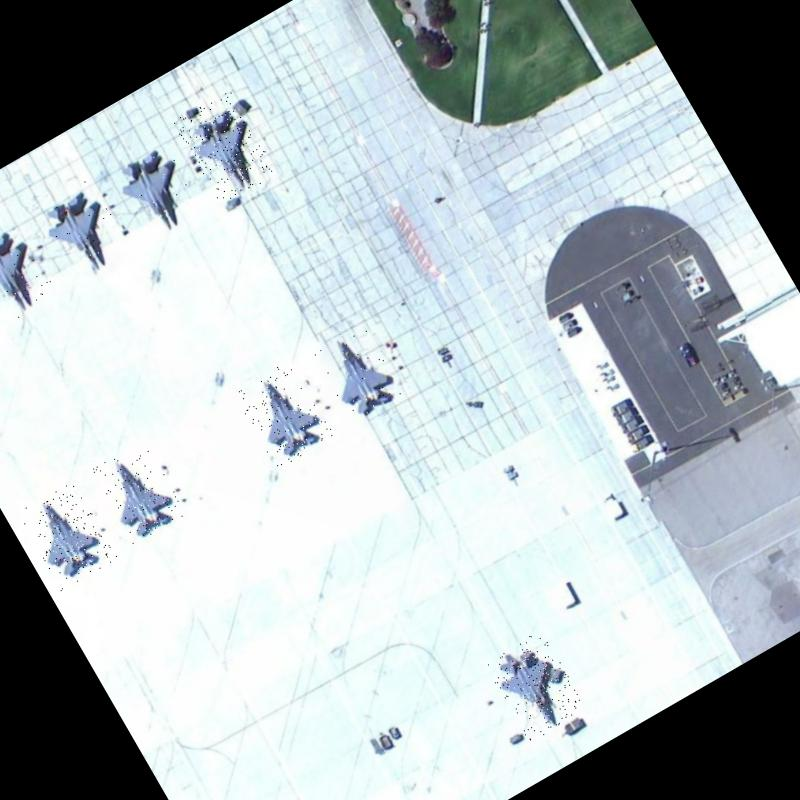A13: (172, 89, 278, 206), (483, 629, 588, 743), (30, 174, 135, 287), (104, 135, 209, 247), (233, 358, 336, 469), (16, 480, 118, 591), (310, 316, 412, 426), (90, 439, 188, 545), (0, 215, 61, 328)
